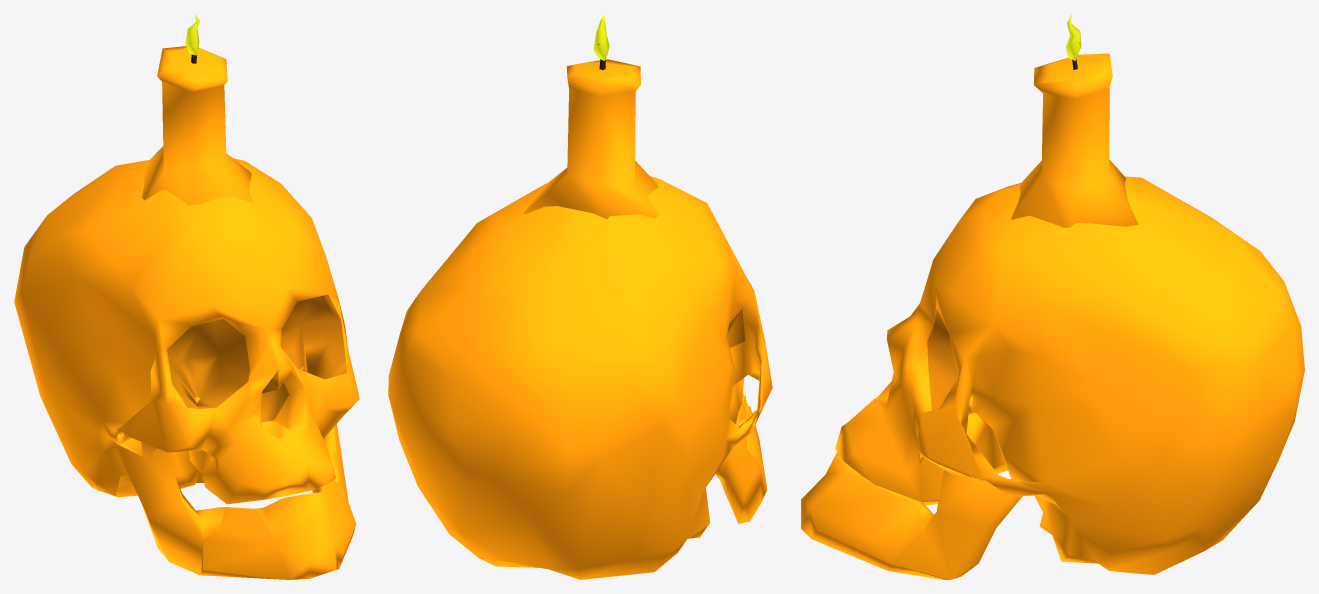
The model's file is CandleSkullShapeB.023.glb.
The picture shows the model from 3 angles, left to right: view 1: azimuth 30°, elevation 25°; view 2: azimuth 150°, elevation 25°; view 3: azimuth 270°, elevation 25°; orthographic projection. The views are drawn at different scales.
Parts seen in each view (by area): view 1: CandleSkullShapeB.023; view 2: CandleSkullShapeB.023; view 3: CandleSkullShapeB.023.
Boxes of the visible parts, box(x1,y1,x2,y2) form: CandleSkullShapeB.023: box(14, 14, 359, 579); CandleSkullShapeB.023: box(388, 14, 772, 579); CandleSkullShapeB.023: box(801, 14, 1304, 579).
Size of the model in its own units: 0.2005 by 0.3649 by 0.3132.
Materials: 2 (2 with a texture image).
